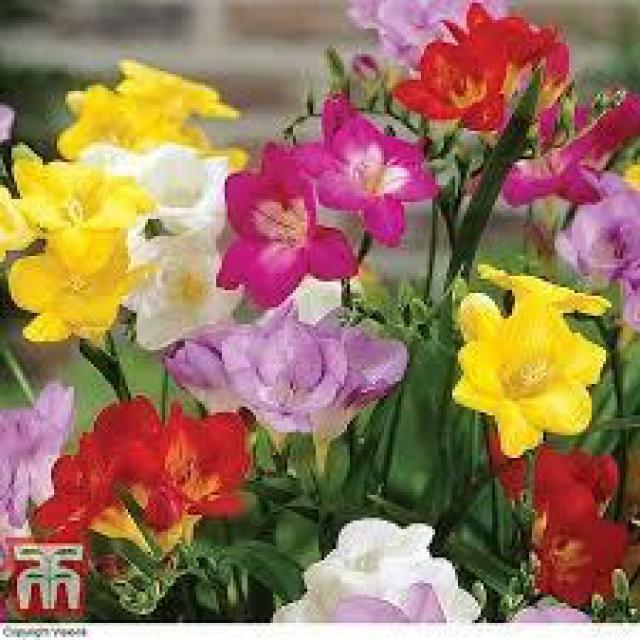freesia: (448, 258, 600, 446), (233, 136, 355, 315), (202, 305, 348, 449), (14, 127, 151, 278), (298, 92, 437, 240), (131, 389, 259, 535), (513, 452, 631, 607), (123, 210, 247, 356), (312, 507, 466, 619), (387, 28, 537, 139), (555, 146, 637, 318)
